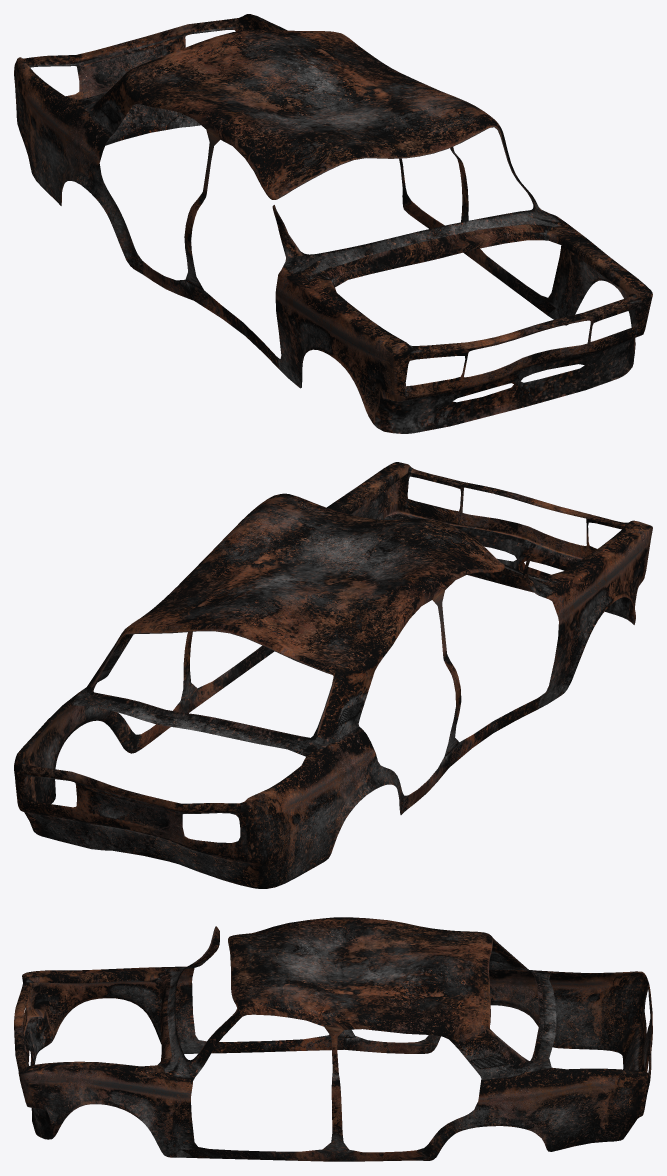
File: SM_Car01_Ruined.FBX
3 renders of one model, top to bottom at view 1: azimuth 30°, elevation 25°; view 2: azimuth 150°, elevation 25°; view 3: azimuth 270°, elevation 25°, orthographic. The views are drawn at different scales.
Parts seen in each view (by area): view 1: SM_Car01_Ruined_LOD0; view 2: SM_Car01_Ruined_LOD0; view 3: SM_Car01_Ruined_LOD0.
Part boxes in pixels (left/top/right/bottom): SM_Car01_Ruined_LOD0: left=14, top=14, right=652, bottom=433; SM_Car01_Ruined_LOD0: left=14, top=462, right=652, bottom=888; SM_Car01_Ruined_LOD0: left=14, top=917, right=652, bottom=1161.
Size of the model in its own units: 171 by 403 by 106.
